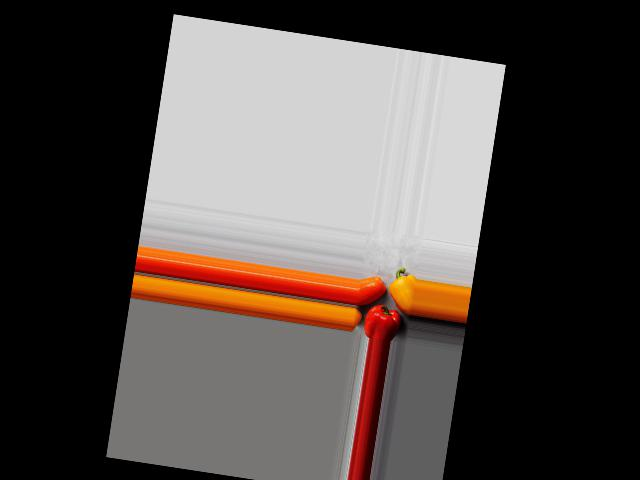bell_pepper: (362, 302, 404, 342)
